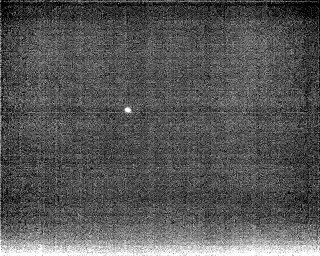AIRPLANE: (123, 105, 133, 115)
